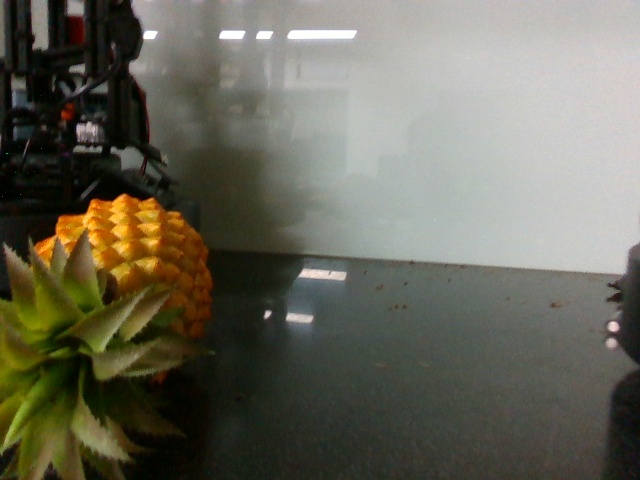pineapple: (5, 194, 218, 475)
